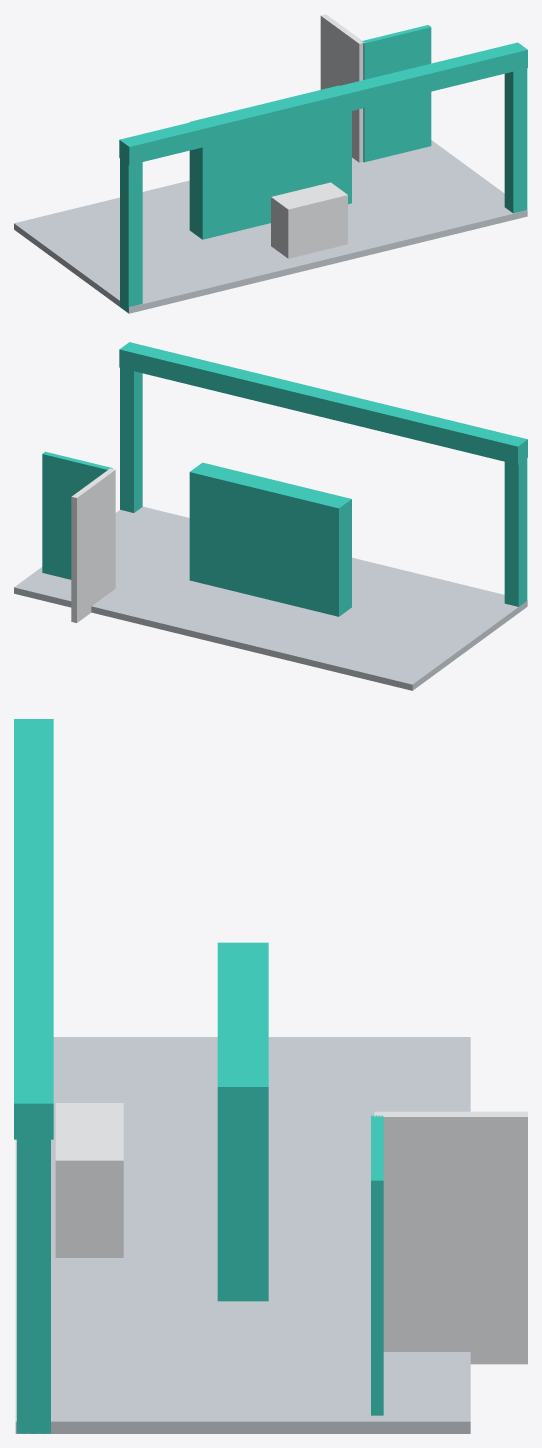
3 renders of one model, top to bottom at view 1: azimuth 30°, elevation 25°; view 2: azimuth 150°, elevation 25°; view 3: azimuth 270°, elevation 25°, orthographic. The views are drawn at different scales.
Parts seen in each view (by area): view 1: Exhibition Booth Concept; view 2: Exhibition Booth Concept; view 3: Exhibition Booth Concept.
Part boxes in pixels (bbox=[...]): Exhibition Booth Concept: bbox=[14, 14, 527, 313]; Exhibition Booth Concept: bbox=[14, 342, 527, 690]; Exhibition Booth Concept: bbox=[14, 719, 527, 1433].
Bounding box in the file's own units: 8 × 3.2 × 4.52.
